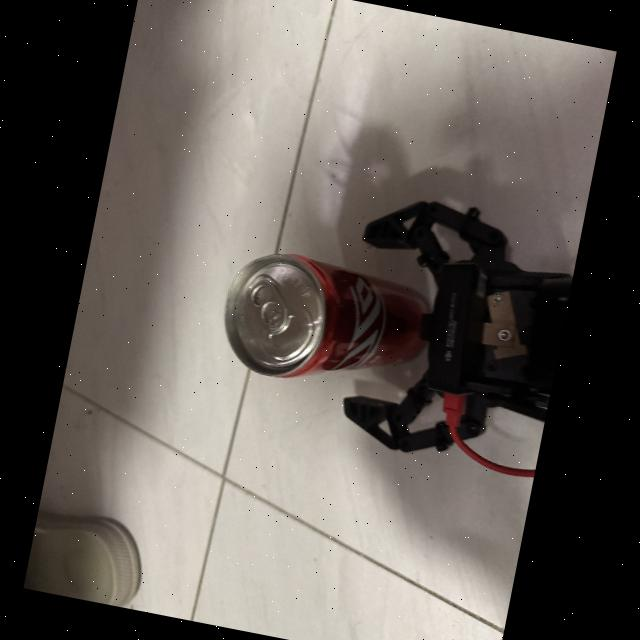Cola: (198, 231, 442, 414)
